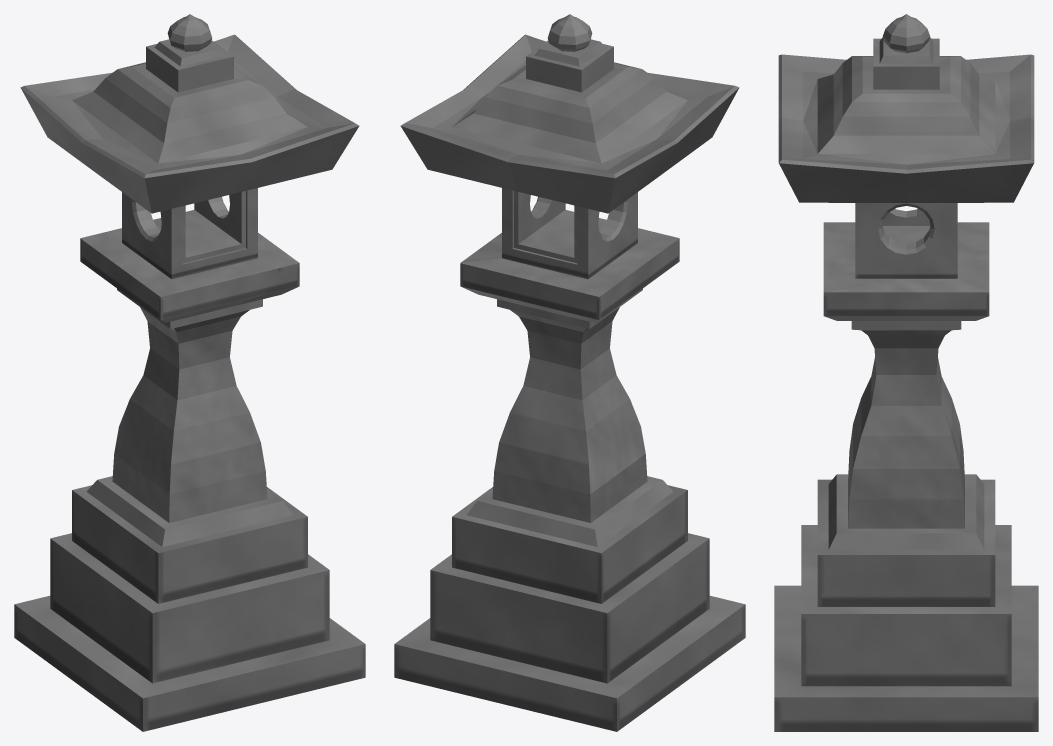
File: Torou.fbx
The picture shows the model from 3 angles, left to right: view 1: azimuth 30°, elevation 25°; view 2: azimuth 150°, elevation 25°; view 3: azimuth 270°, elevation 25°; orthographic projection. The views are drawn at different scales.
Parts seen in each view (by area): view 1: Tourou_a_low; view 2: Tourou_a_low; view 3: Tourou_a_low.
Boxes of the visible parts, x1,y1,x2,y2 form: Tourou_a_low: (14,14,365,731); Tourou_a_low: (394,14,745,731); Tourou_a_low: (774,14,1038,731).
Size of the model in its own units: 166 by 457 by 166.
Materials: 1 (1 with a texture image).
